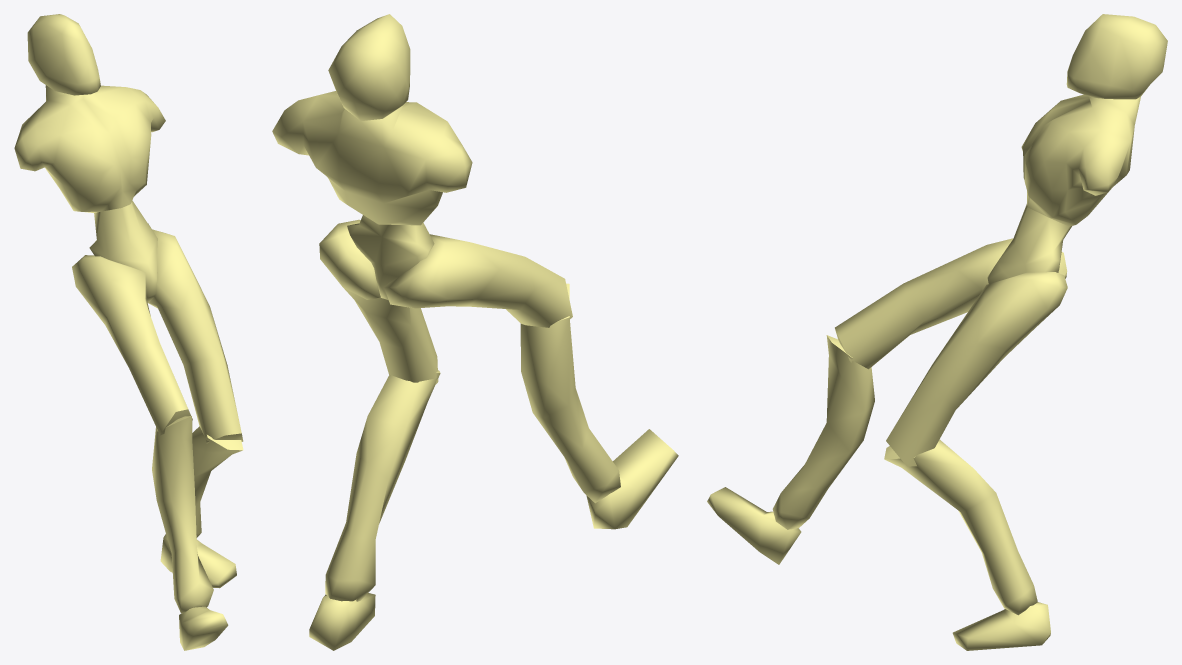
Rendered from filth5.obj.
3 renders of one model, left to right at view 1: azimuth 30°, elevation 25°; view 2: azimuth 150°, elevation 25°; view 3: azimuth 270°, elevation 25°, orthographic. The views are drawn at different scales.
Parts seen in each view (by area): view 1: Melee_Husk; view 2: Melee_Husk; view 3: Melee_Husk.
Boxes of the visible parts, <box> form: Melee_Husk: <box>14,14,243,650</box>; Melee_Husk: <box>272,14,678,650</box>; Melee_Husk: <box>707,14,1167,650</box>.
Size of the model in its own units: 22.88 by 72.22 by 51.42.
